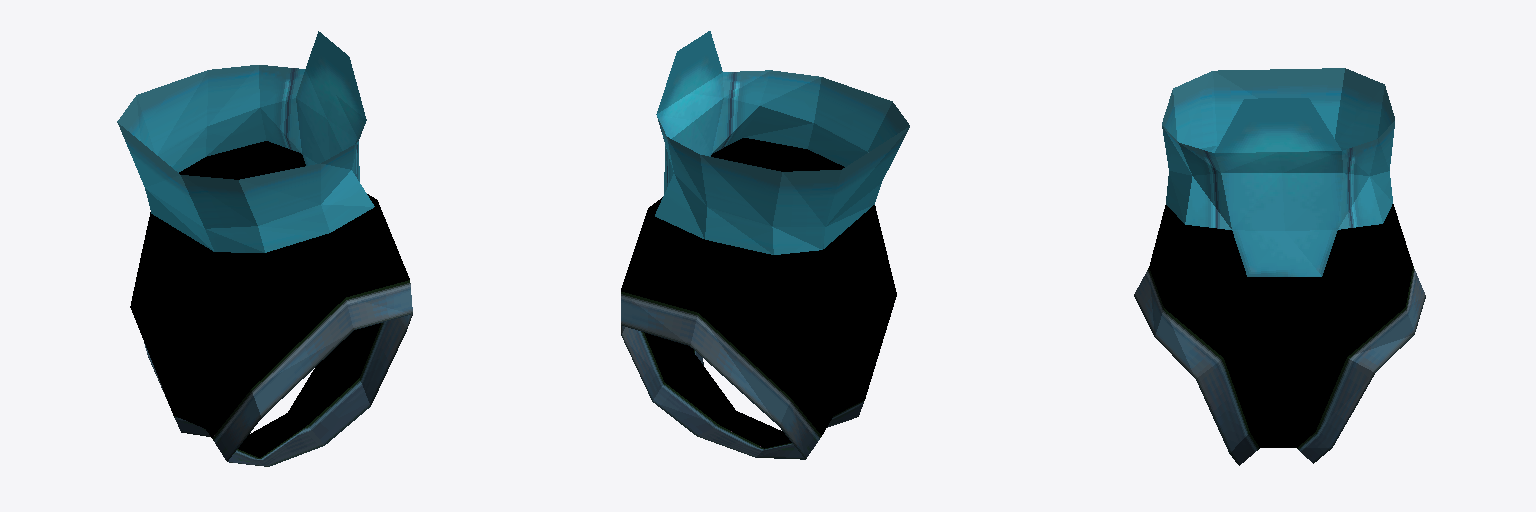
The picture shows the model from 3 angles: view 1: azimuth 30°, elevation 25°; view 2: azimuth 150°, elevation 25°; view 3: azimuth 270°, elevation 25°; orthographic projection.
Parts seen in each view (by area): view 1: Pierna_izquierda038, Pierna_izquierda039, Pierna_izquierda037; view 2: Pierna_izquierda038, Pierna_izquierda039, Pierna_izquierda036; view 3: Pierna_izquierda039, Pierna_izquierda038, Pierna_izquierda037, Pierna_izquierda036.
Part boxes in pixels (bbox=[...]): Pierna_izquierda038: bbox=[130, 141, 409, 457]; Pierna_izquierda039: bbox=[117, 31, 374, 252]; Pierna_izquierda037: bbox=[212, 280, 412, 466]; Pierna_izquierda038: bbox=[621, 138, 896, 448]; Pierna_izquierda039: bbox=[655, 31, 909, 254]; Pierna_izquierda036: bbox=[621, 292, 821, 459]; Pierna_izquierda039: bbox=[1162, 68, 1394, 276]; Pierna_izquierda038: bbox=[1149, 204, 1412, 447]; Pierna_izquierda037: bbox=[1134, 268, 1259, 465]; Pierna_izquierda036: bbox=[1297, 266, 1425, 463].
Bounding box in the file's own units: 1.04 × 1.78 × 1.21.
2 materials, 1 textured.